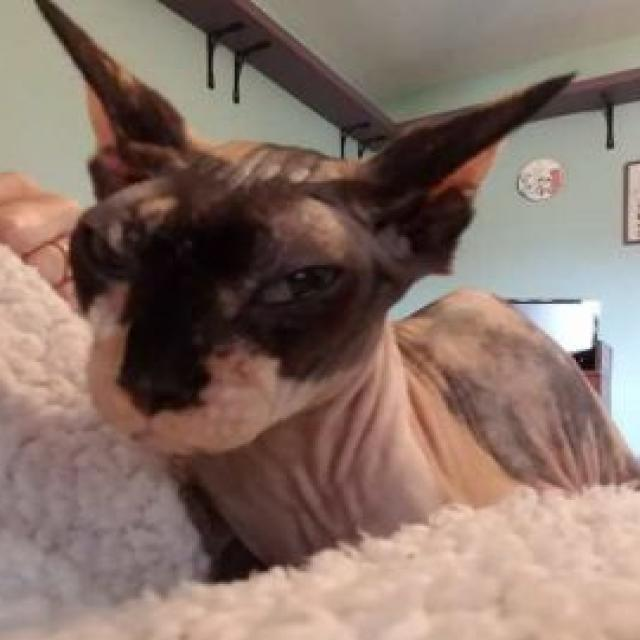Sphynx: (23, 0, 640, 569)
